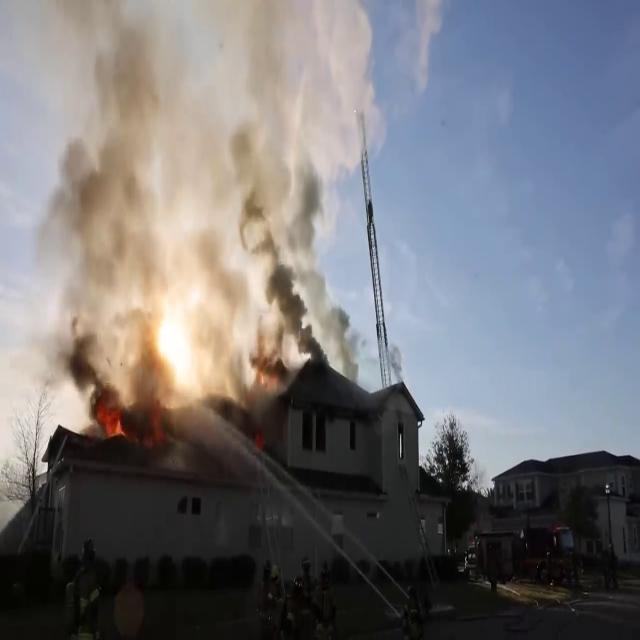smoke: (12, 0, 341, 405)
